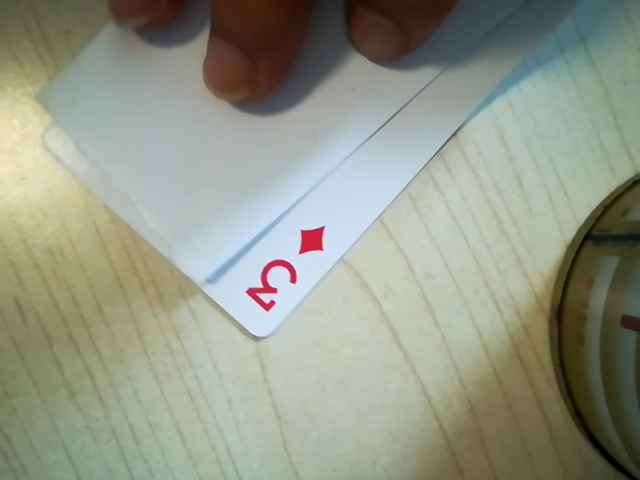fk 3: (231, 223, 328, 319)
